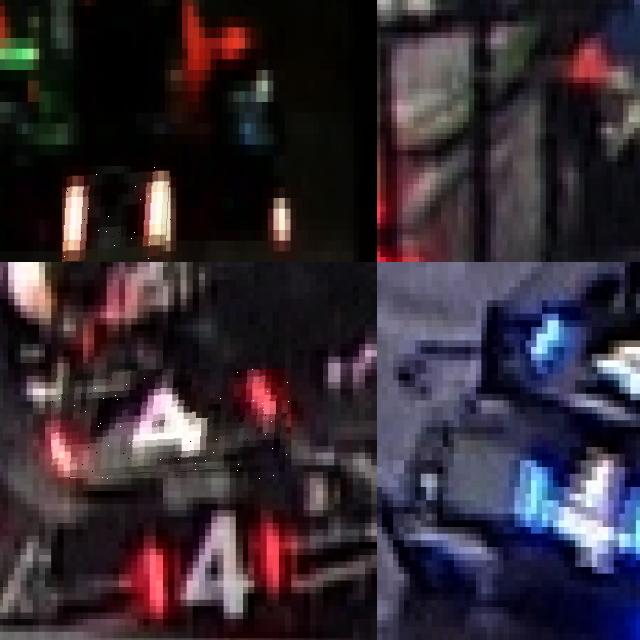B4: (486, 430, 640, 590), (500, 286, 640, 420)
R4: (51, 369, 291, 479), (138, 504, 292, 625)
Rs: (62, 166, 170, 262)
